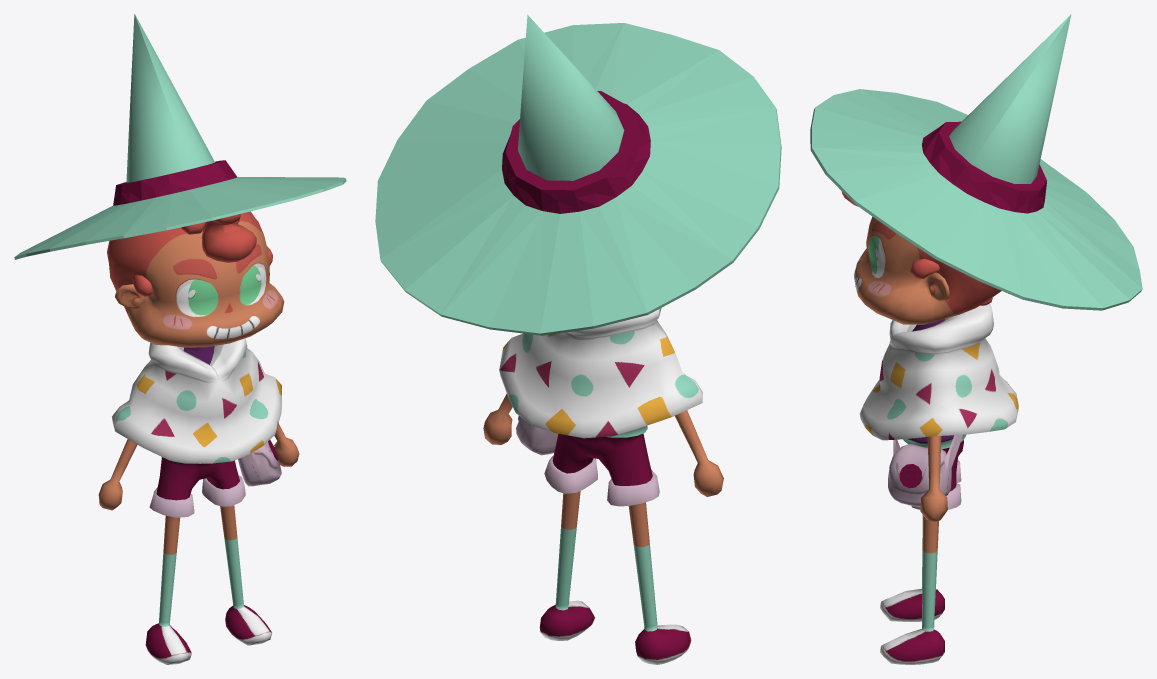
The model's file is Chara_Polytechniform.FBX.
The picture shows the model from 3 angles, left to right: view 1: azimuth 30°, elevation 25°; view 2: azimuth 150°, elevation 25°; view 3: azimuth 270°, elevation 25°; orthographic projection. The views are drawn at different scales.
Visible parts, largest first — view 1: Polytechniform_full; view 2: Polytechniform_full; view 3: Polytechniform_full.
Part boxes in pixels (x1,y1,x2,y2): Polytechniform_full: (14,14,346,664); Polytechniform_full: (375,14,781,664); Polytechniform_full: (810,14,1142,664).
Size of the model in its own units: 73.39 by 65.08 by 134.
Materials: 1 (1 with a texture image).
